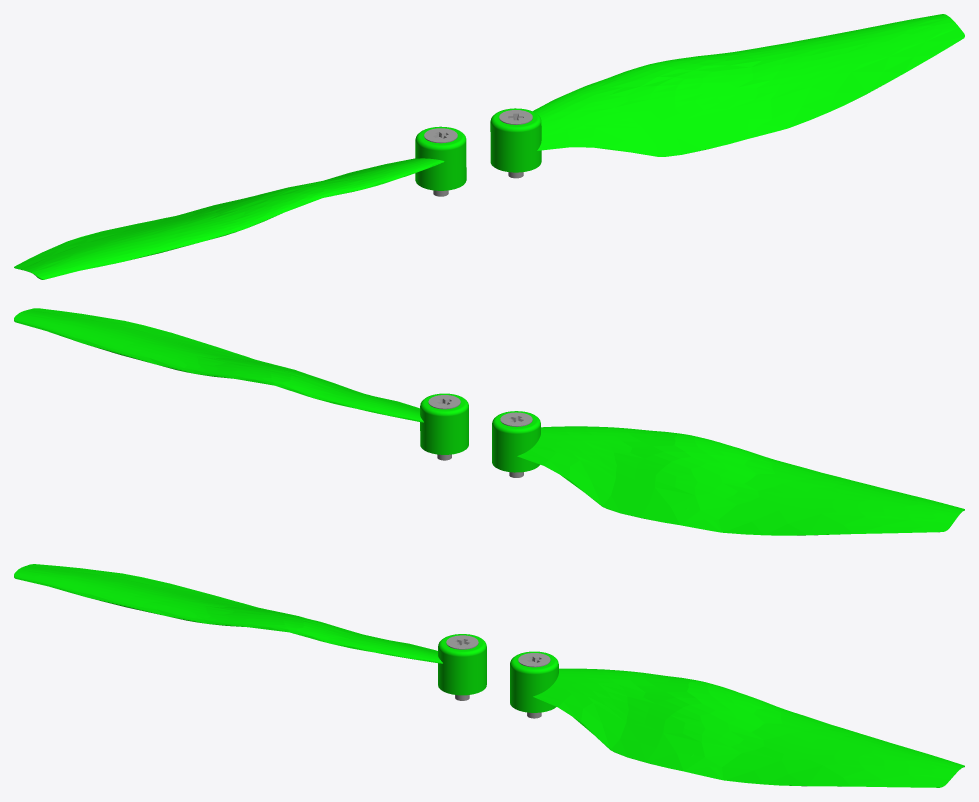
File: Starling_propeller_CCW.obj
The picture shows the model from 3 angles, top to bottom: view 1: azimuth 30°, elevation 25°; view 2: azimuth 150°, elevation 25°; view 3: azimuth 330°, elevation 25°; orthographic projection. The views are drawn at different scales.
Parts seen in each view (by area): view 1: Body1:2, Body1:3; view 2: Body1:3, Body1:2; view 3: Body1:2, Body1:3.
Boxes of the visible parts, x1,y1,x2,y2 form: Body1:2: (490, 14, 964, 172); Body1:3: (14, 126, 466, 279); Body1:3: (492, 411, 964, 535); Body1:2: (14, 308, 468, 454); Body1:2: (510, 651, 964, 787); Body1:3: (14, 564, 486, 695).
Bounding box in the file's own units: 127 × 7.4 × 15.24.
